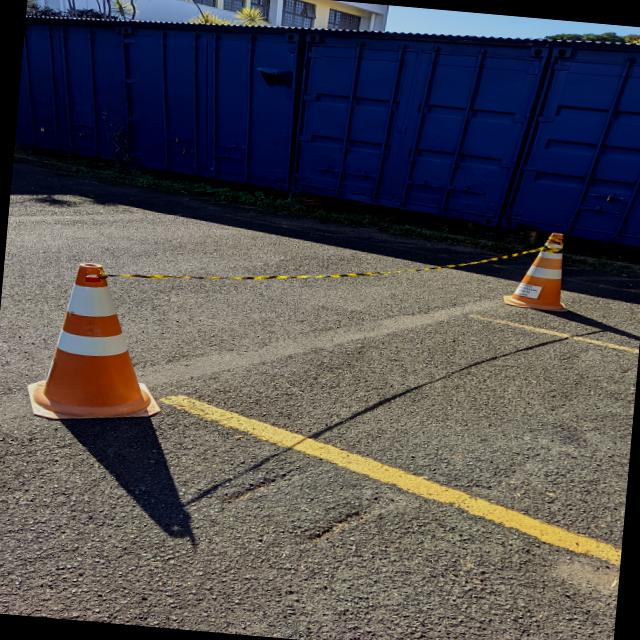cone: (18, 254, 178, 431), (498, 226, 580, 315)
